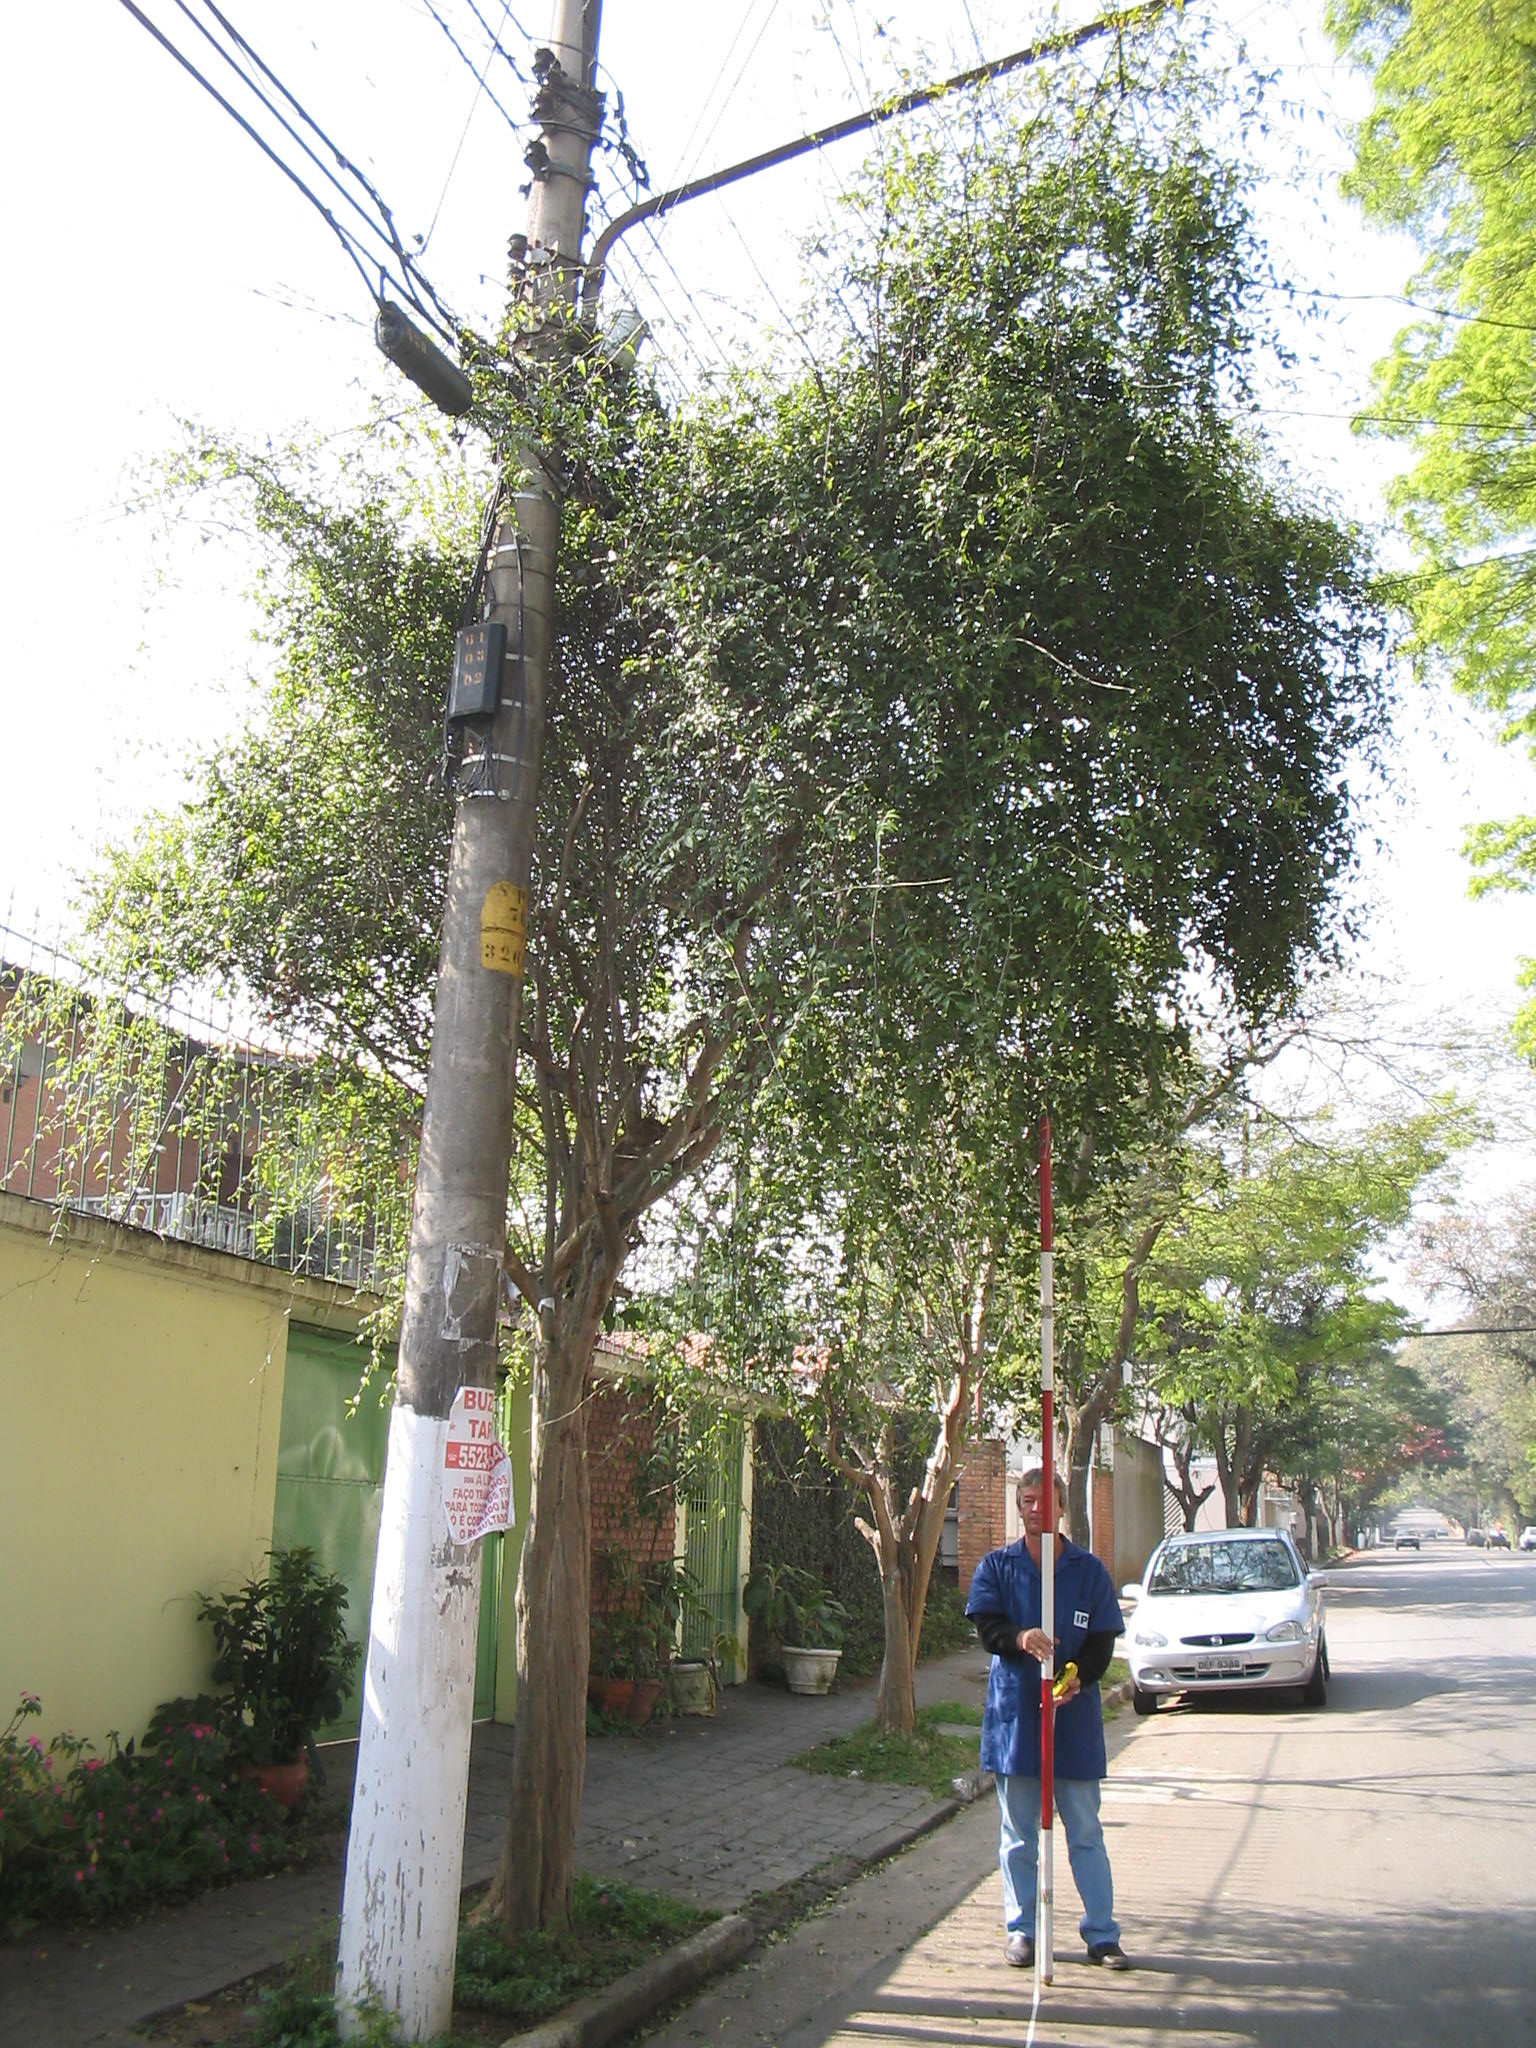crown: (29, 10, 1438, 1340)
stem: (489, 1347, 615, 1930)
stick: (1021, 1109, 1075, 1985)
tree: (19, 2, 1425, 1951)
